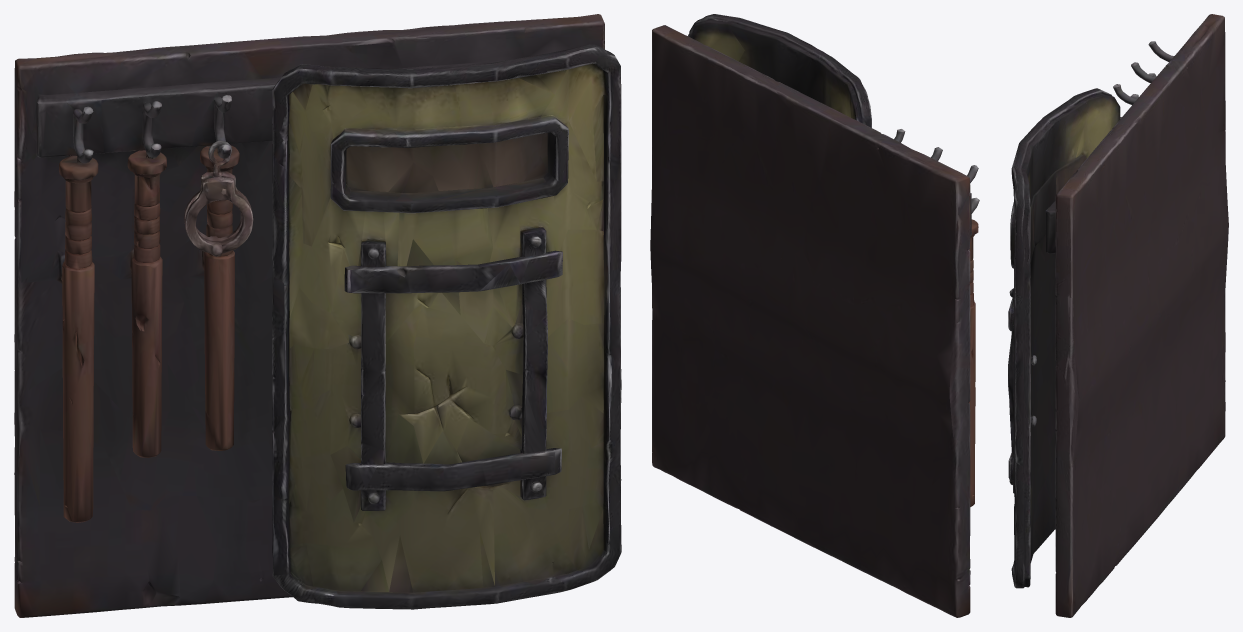
Rendered from prison_armory_open_idle.glb.
3 views of the same model, side by side, from view 1: azimuth 30°, elevation 25°; view 2: azimuth 150°, elevation 25°; view 3: azimuth 270°, elevation 25° (orthographic). The views are drawn at different scales.
Parts seen in each view (by area): view 1: tripo_node_58c05870-9ad3-4506-9243-6933cf30e349; view 2: tripo_node_58c05870-9ad3-4506-9243-6933cf30e349; view 3: tripo_node_58c05870-9ad3-4506-9243-6933cf30e349.
Boxes of the visible parts, box(x1,y1,x2,y2) form: tripo_node_58c05870-9ad3-4506-9243-6933cf30e349: box(14, 14, 621, 617); tripo_node_58c05870-9ad3-4506-9243-6933cf30e349: box(650, 14, 979, 617); tripo_node_58c05870-9ad3-4506-9243-6933cf30e349: box(1008, 14, 1228, 617).
Bounding box in the file's own units: 1.76 × 1.9 × 0.8934.
1 material, 1 textured.
